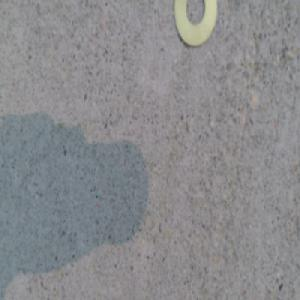Washer: (173, 0, 217, 51)
